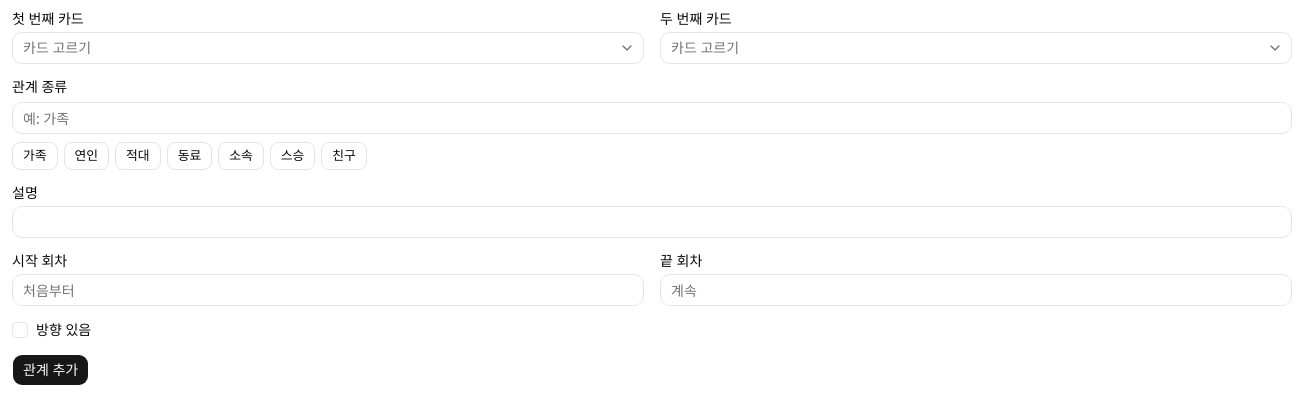
Test: RelationForm › fills the relation kind from a suggestion chip
The width and height of the screenshot is (1304, 402).
Click the button "가족" at (35, 156), box 12,142 -> 58,170
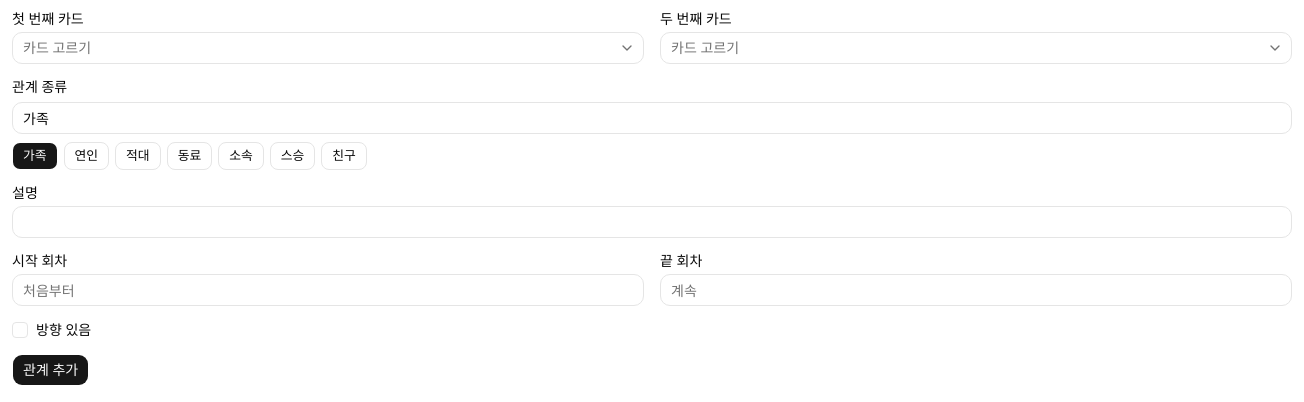
Expected: the field labelled "관계 종류" holds "가족", 12,102 -> 1292,134
